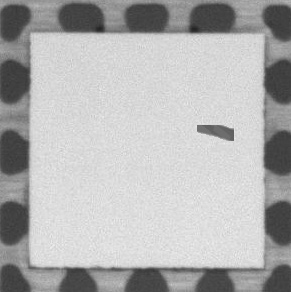DIE_INK: (196, 125, 233, 141)
